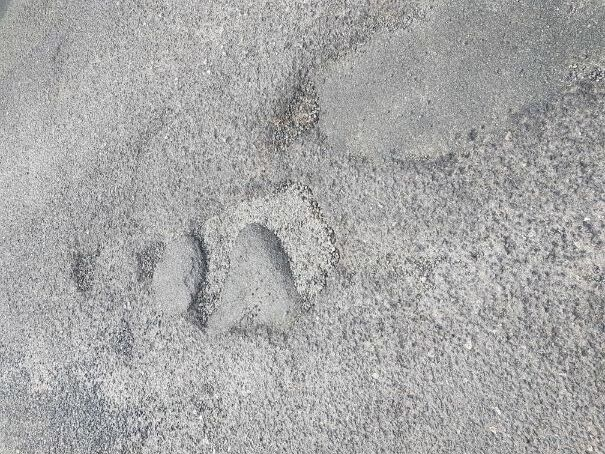pothole: (182, 171, 355, 332)
